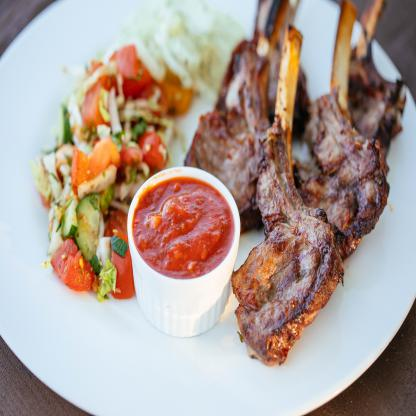Carne: (236, 205, 336, 361), (304, 105, 383, 240)
